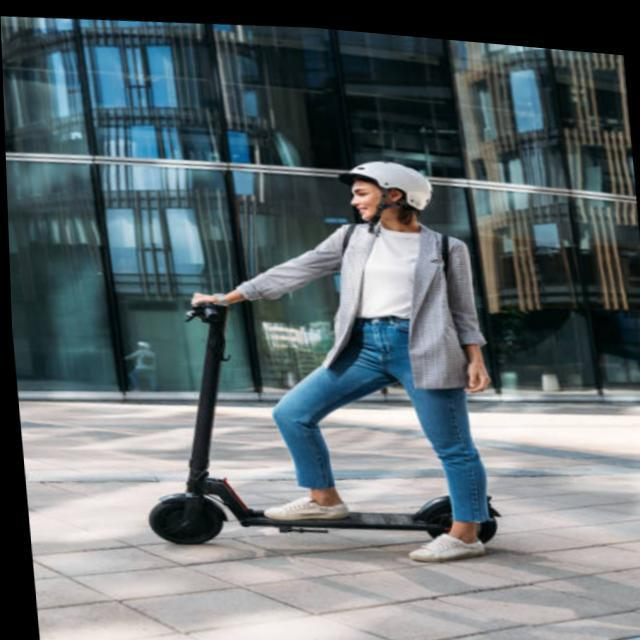Helmet: (338, 153, 440, 228)
